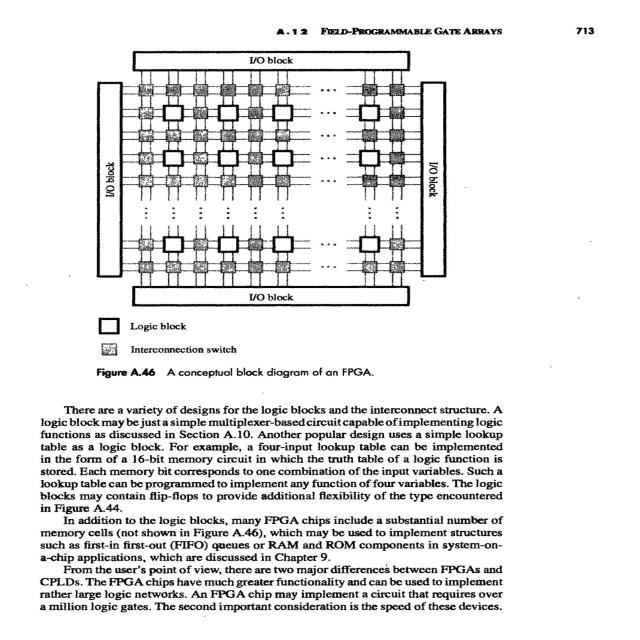diagram: (60, 39, 542, 398)
